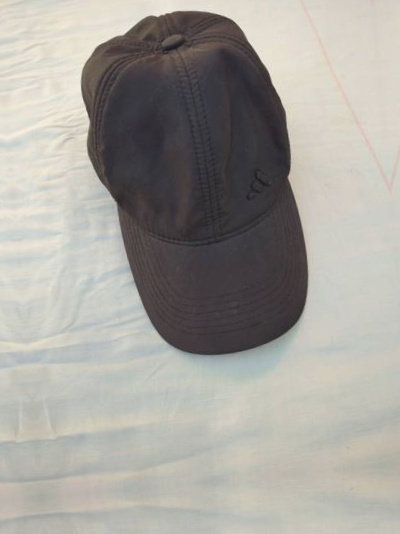Hat: (48, 0, 342, 358)
